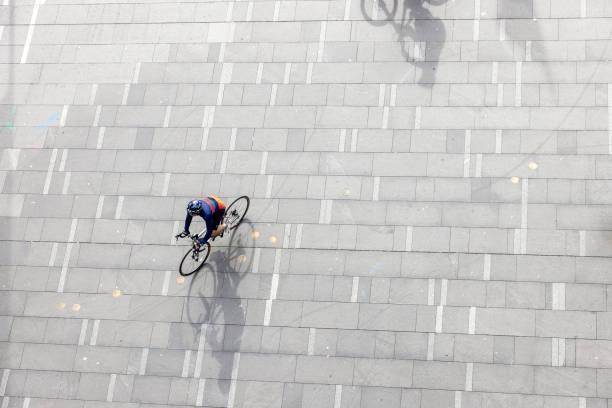Motorcycle: (174, 190, 264, 284)
